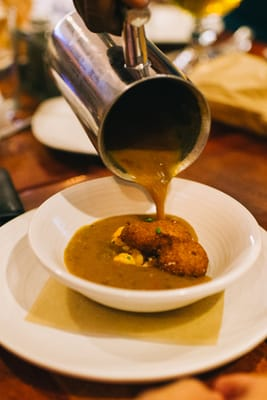sushi: (28, 178, 263, 314)
